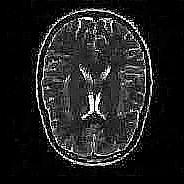Normal_Brain: (2, 1, 184, 184)
